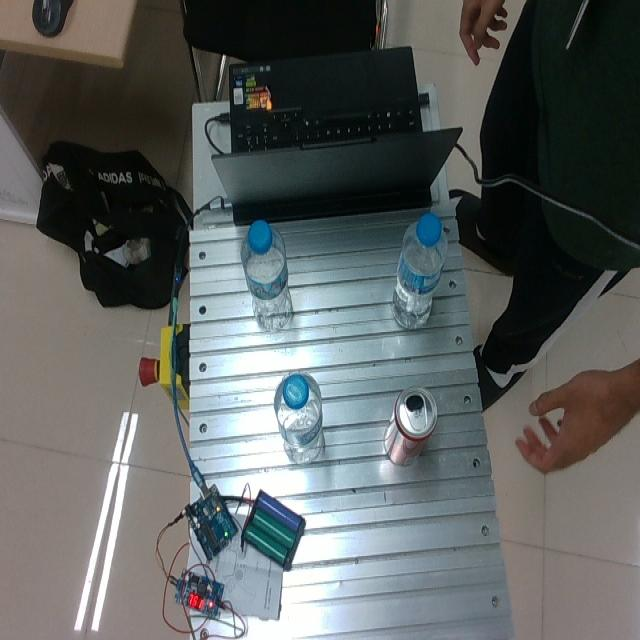coca: (384, 386, 439, 466)
lavie: (391, 212, 447, 329), (241, 219, 292, 332), (274, 370, 323, 462)
